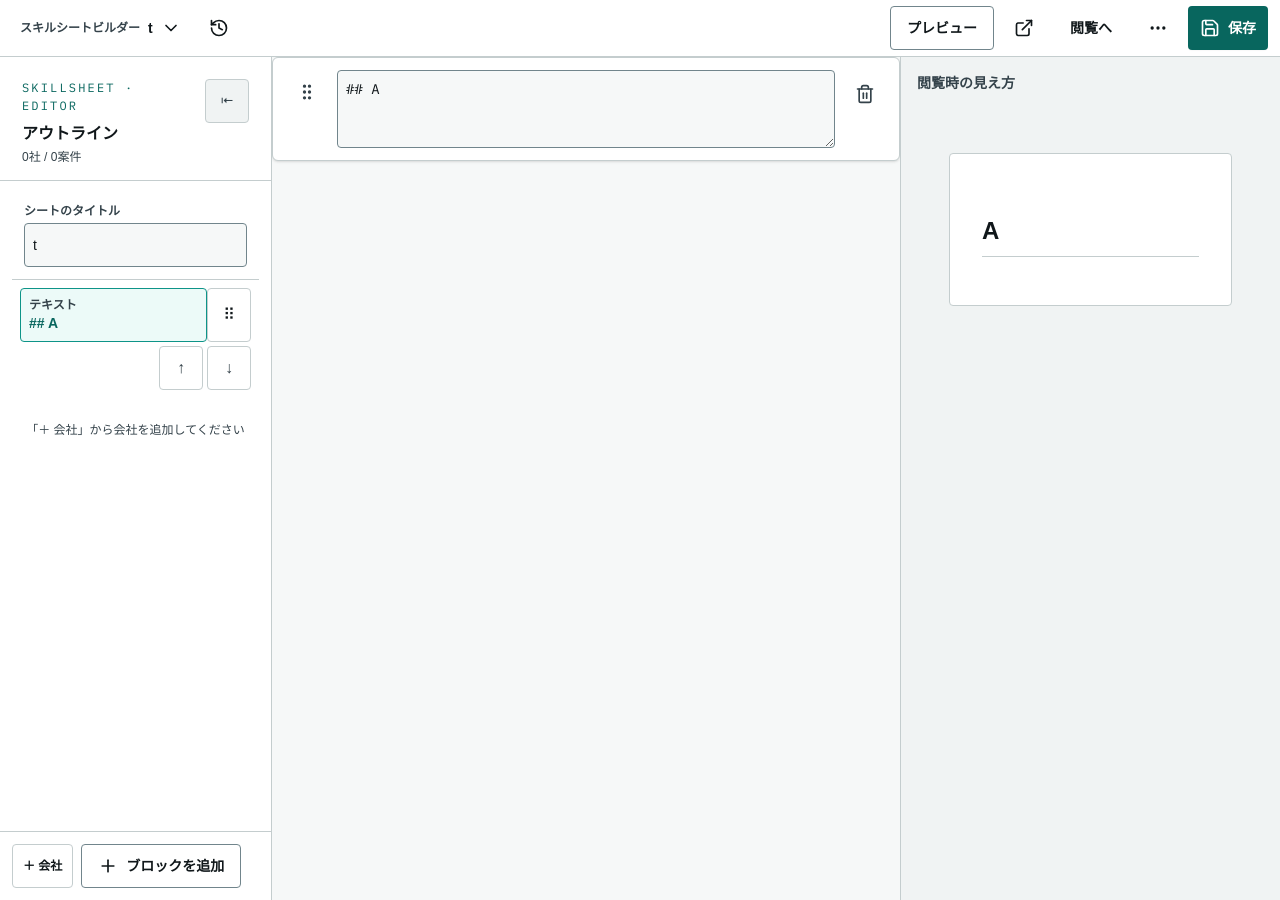
it: BuilderClient › 未保存の変更が無ければ確認ダイアログを挟まず「新規シート」の作成ダイアログが開く
Click the button with aria-label "シートを切り替える:" at (100, 28), box [12, 6, 189, 50]
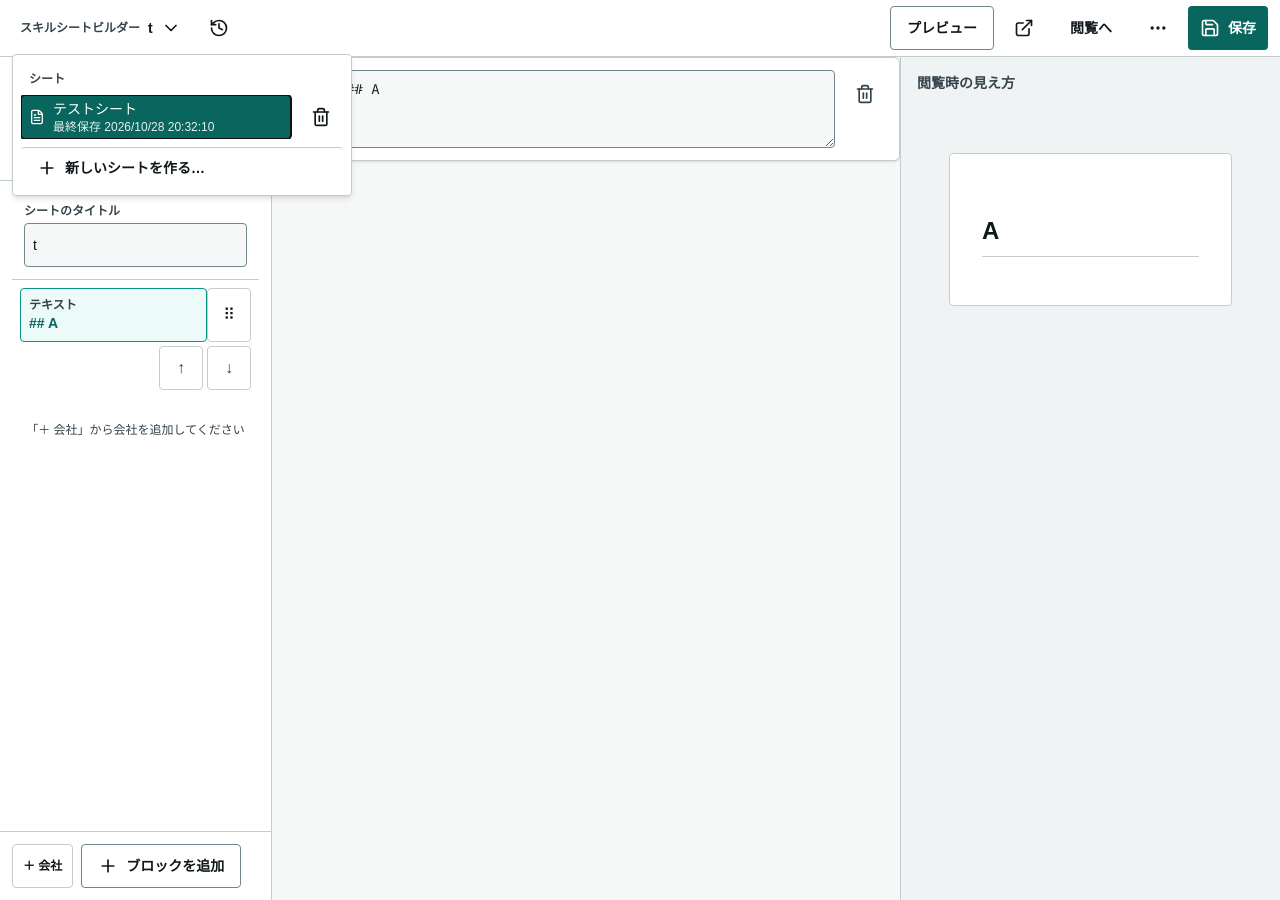
Click the button "新しいシートを作る…" at (182, 167), box [21, 147, 343, 187]
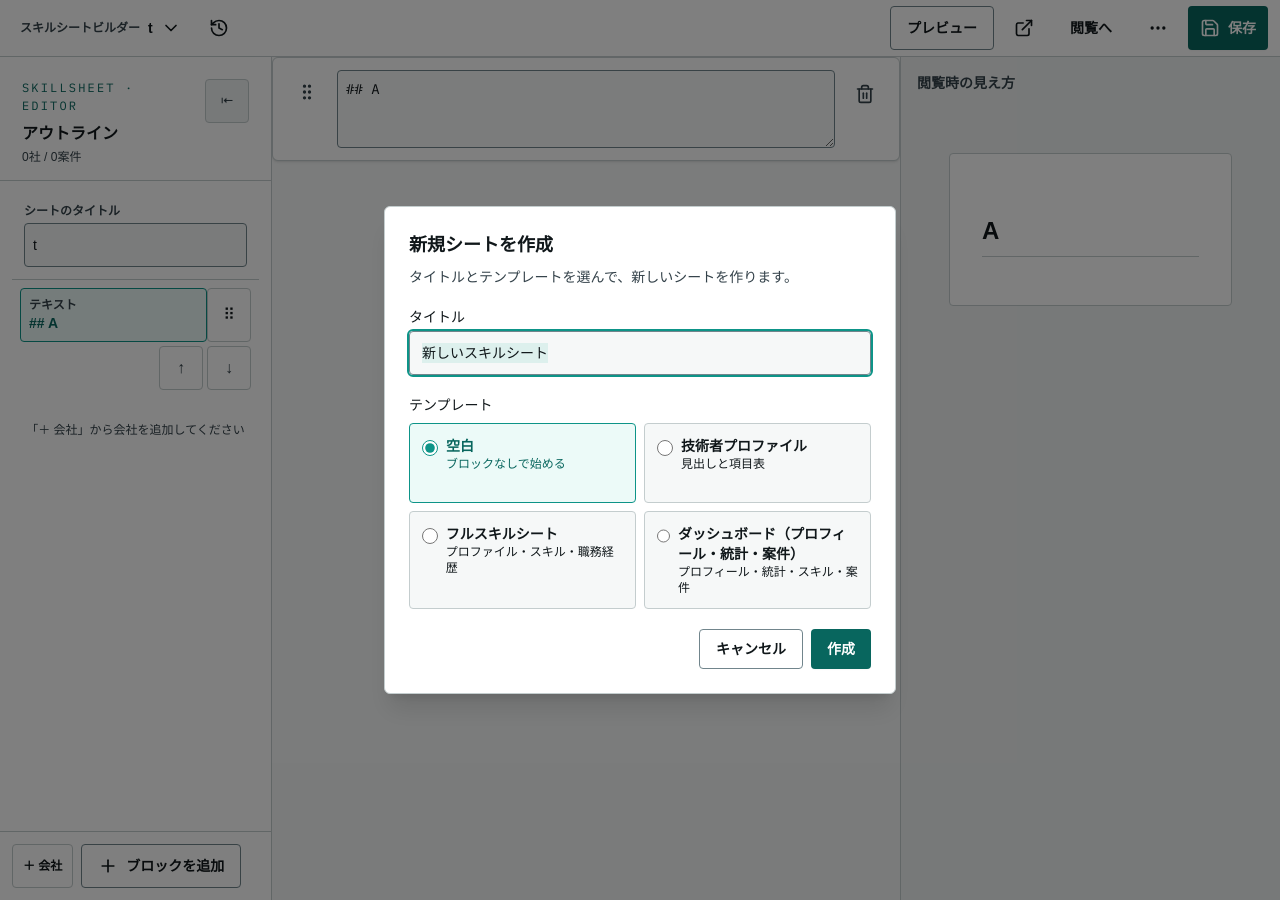
Result: the heading "新規シートを作成" is shown at [409, 235, 553, 255]
